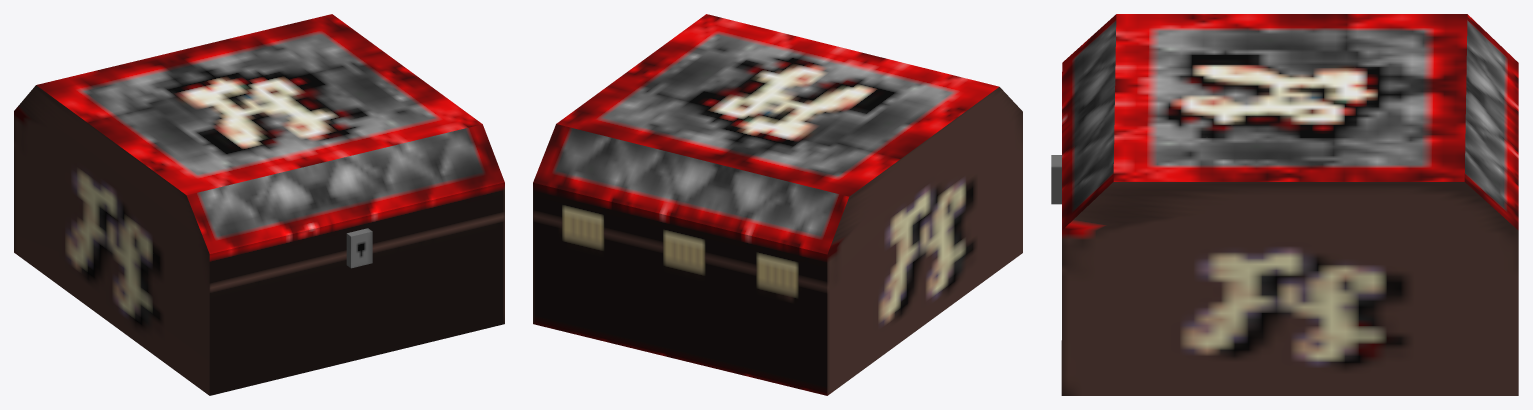
The model's file is FrockinSplendor4_ToyBox.fbx.
3 views of the same model, side by side, from view 1: azimuth 30°, elevation 25°; view 2: azimuth 150°, elevation 25°; view 3: azimuth 270°, elevation 25° (orthographic). The views are drawn at different scales.
Visible parts, largest first — view 1: ToolBox_Ground; view 2: ToolBox_Ground; view 3: ToolBox_Ground.
Boxes of the visible parts, left/top/right/bottom form: ToolBox_Ground: left=14, top=14, right=504, bottom=395; ToolBox_Ground: left=533, top=14, right=1022, bottom=395; ToolBox_Ground: left=1051, top=14, right=1518, bottom=395.
Size of the model in its own units: 0.1343 by 0.0799 by 0.158.
